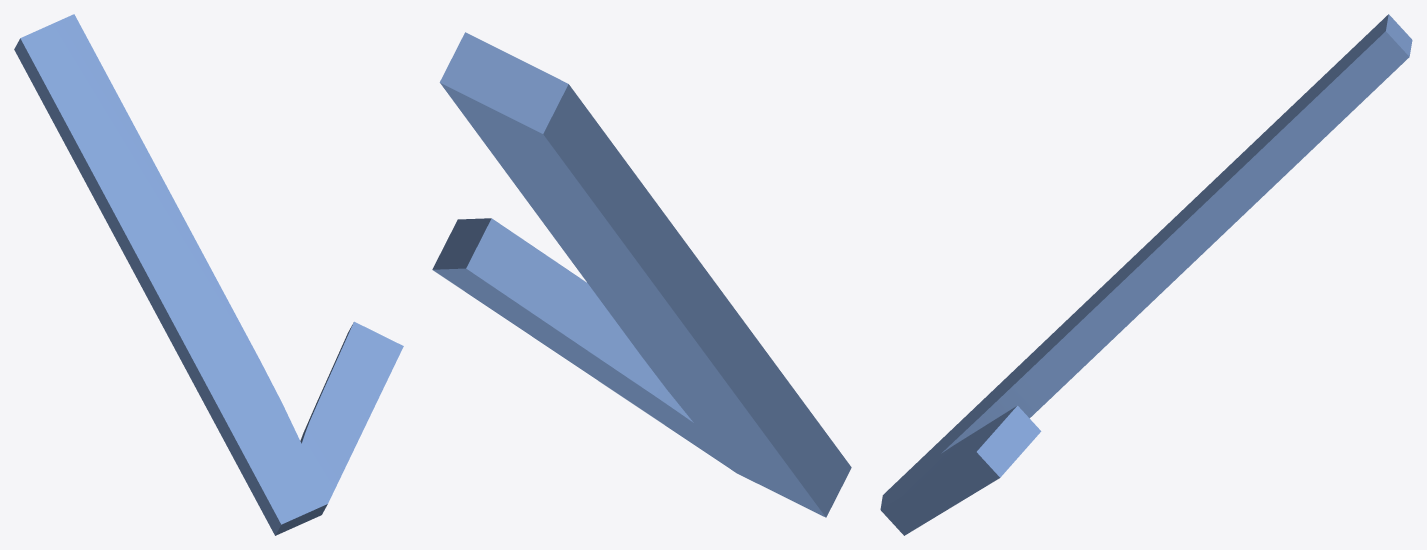
File: New_Number_1.gltf
3 views of the same model, side by side, from view 1: azimuth 30°, elevation 25°; view 2: azimuth 150°, elevation 25°; view 3: azimuth 270°, elevation 25° (orthographic). The views are drawn at different scales.
Parts seen in each view (by area): view 1: Part 199; view 2: Part 199; view 3: Part 199.
Part boxes in pixels (x1=…): Part 199: x1=14, y1=14, x2=403, y2=535; Part 199: x1=432, y1=32, x2=851, y2=517; Part 199: x1=880, y1=14, x2=1412, y2=535.
Size of the model in its own units: 0.0023 by 0.00379 by 0.00378.
